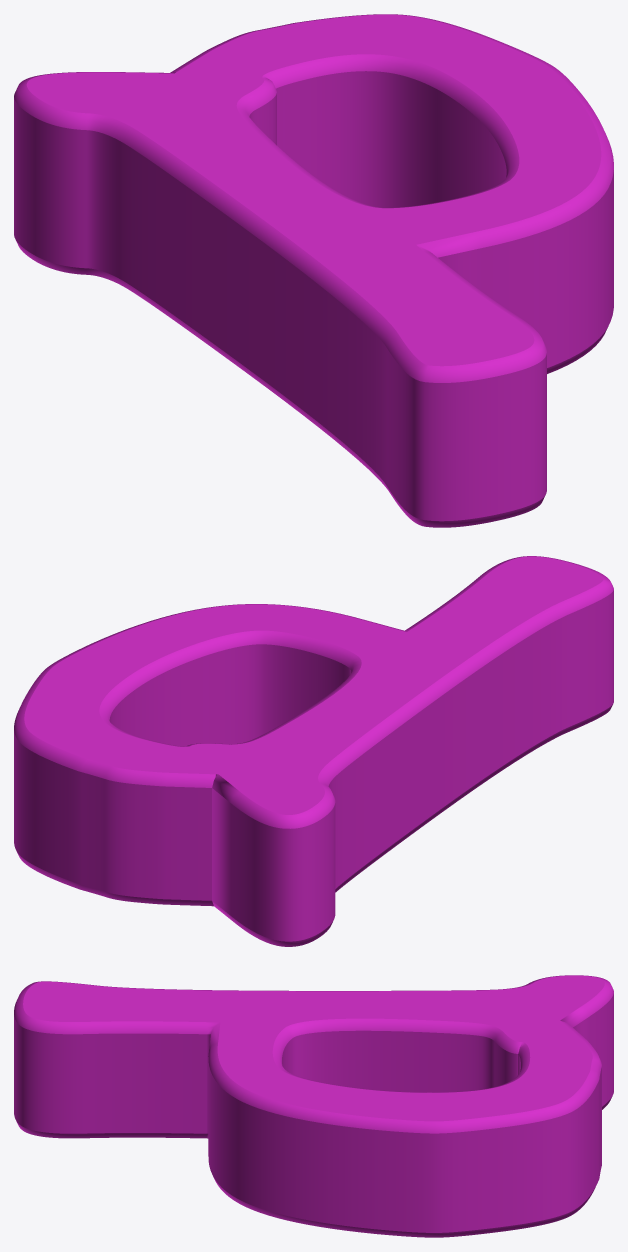
Rendered from Bubble_Letter_d.fbx.
The picture shows the model from 3 angles, top to bottom: view 1: azimuth 30°, elevation 25°; view 2: azimuth 150°, elevation 25°; view 3: azimuth 270°, elevation 25°; orthographic projection. The views are drawn at different scales.
Visible parts, largest first — view 1: BubbleLetter_d; view 2: BubbleLetter_d; view 3: BubbleLetter_d.
Boxes of the visible parts, x1,y1,x2,y2 form: BubbleLetter_d: [14, 14, 613, 527]; BubbleLetter_d: [14, 556, 613, 946]; BubbleLetter_d: [14, 975, 613, 1237].
Size of the model in its own units: 0.3974 by 0.14 by 0.6563.
